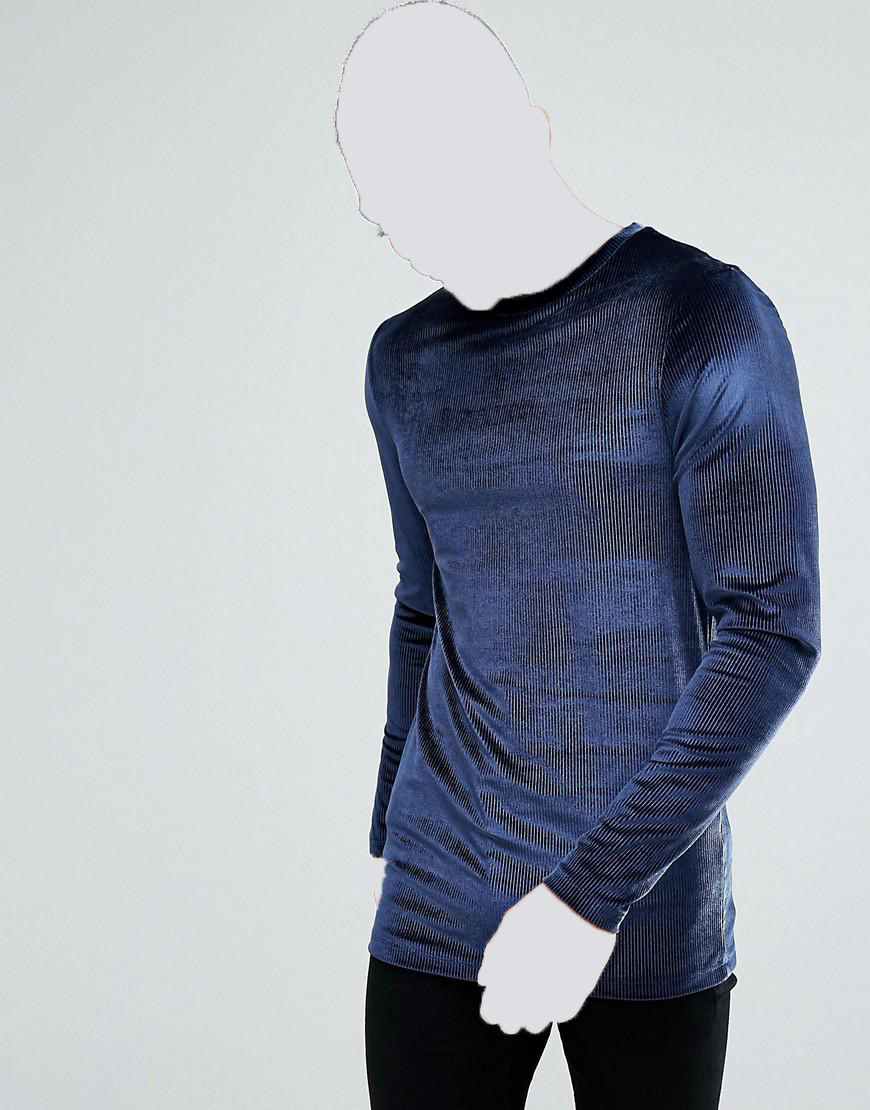teeshirt: (337, 227, 827, 991)
